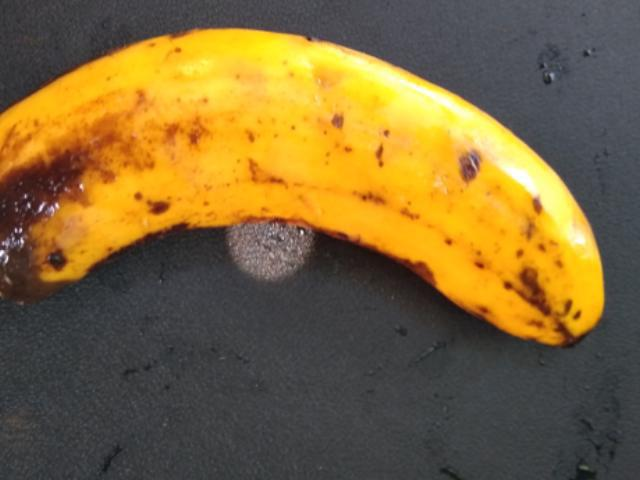overripe: (108, 9, 620, 392)
rotten: (0, 54, 234, 322)
